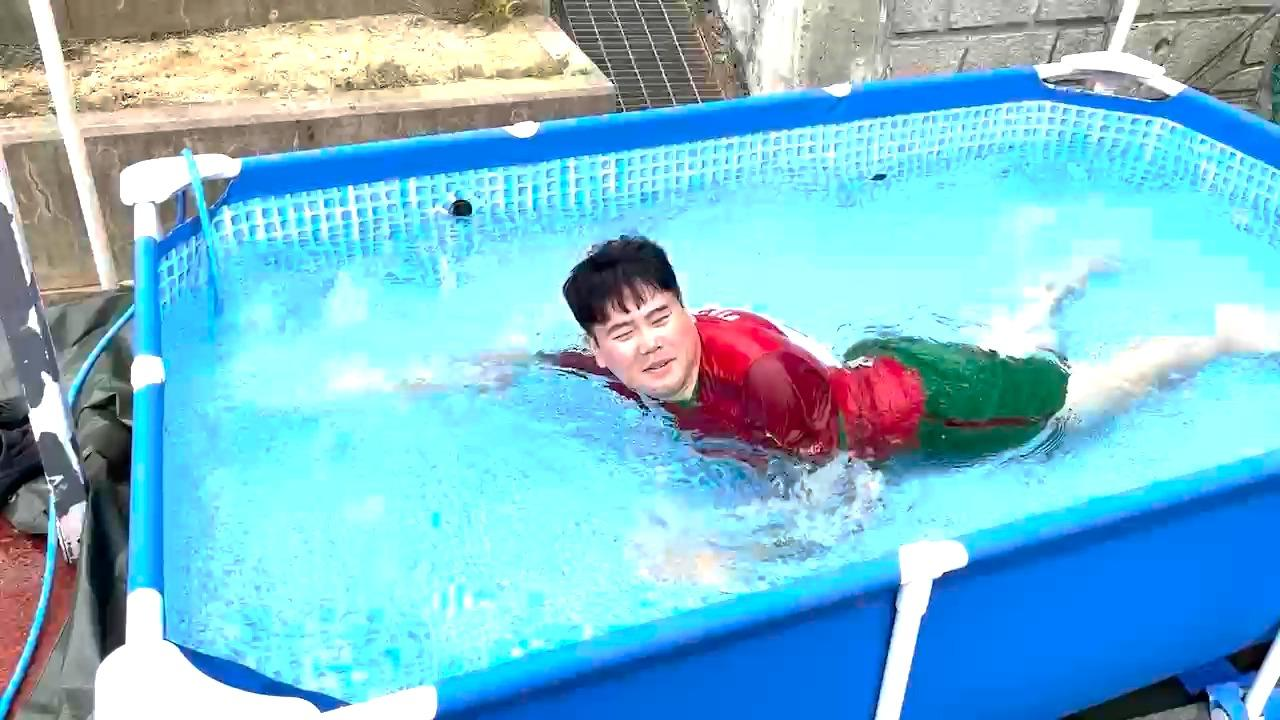Swimming: (294, 166, 1280, 532)
